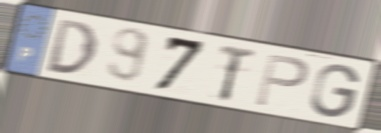7: (151, 34, 209, 94)
9: (105, 25, 152, 88)
D: (45, 16, 99, 77)
G: (308, 63, 363, 120)
P: (252, 51, 310, 109)
T: (216, 42, 259, 104)
